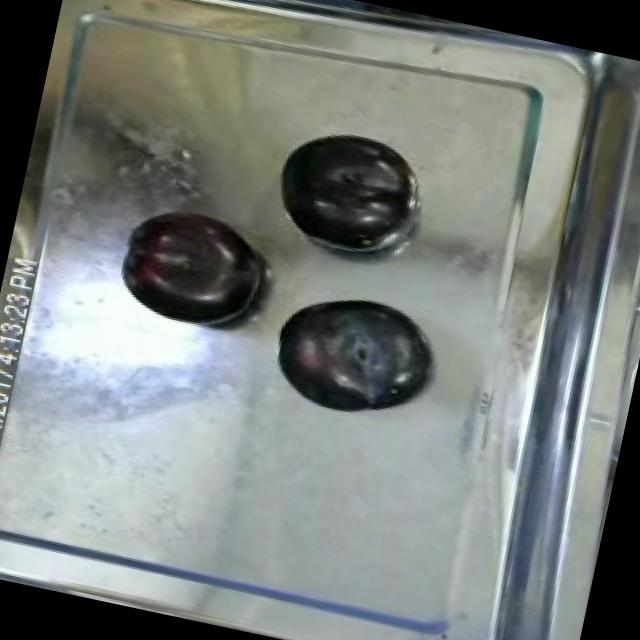Fruit: (260, 280, 440, 432), (265, 120, 425, 264), (107, 192, 267, 336)
